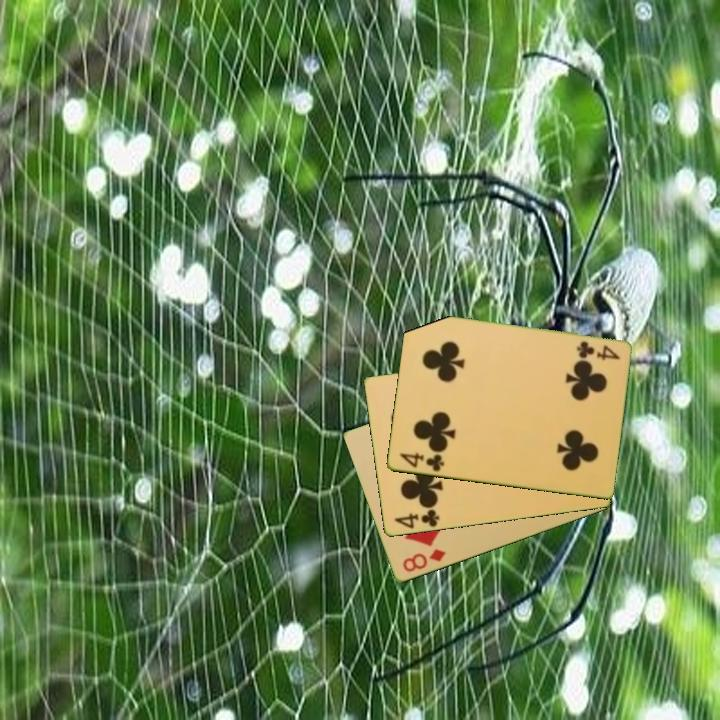4c: (390, 506, 442, 532), (395, 449, 447, 475), (573, 338, 623, 363)
8d: (399, 546, 448, 575)
